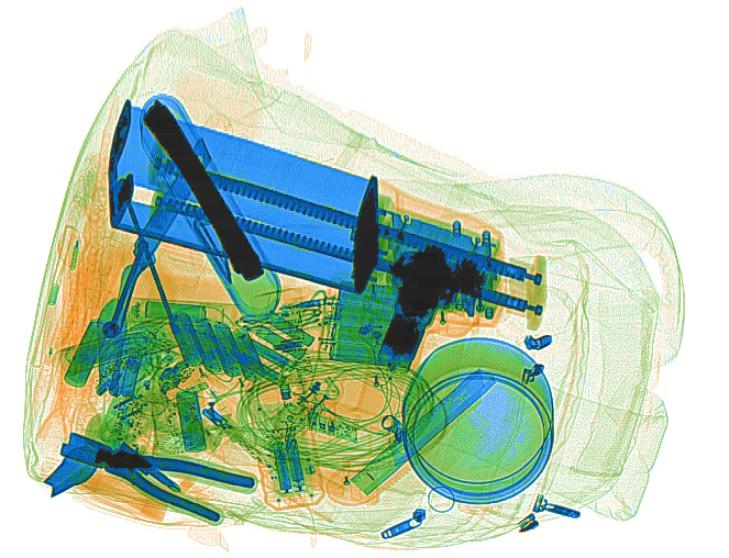battery: (319, 276, 429, 379), (168, 310, 265, 387), (234, 311, 316, 389), (61, 316, 112, 389), (75, 331, 149, 368), (176, 387, 208, 453), (272, 436, 306, 495), (144, 299, 209, 323)
knife: (327, 366, 496, 507), (132, 135, 212, 269)
